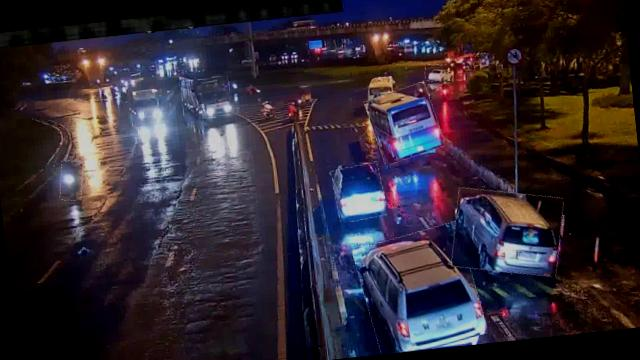Bike: (58, 160, 86, 202)
Bus: (366, 84, 443, 164)
Car: (355, 223, 485, 355), (447, 182, 568, 283), (332, 163, 387, 223), (424, 64, 450, 82)
Truck: (180, 76, 233, 121)
